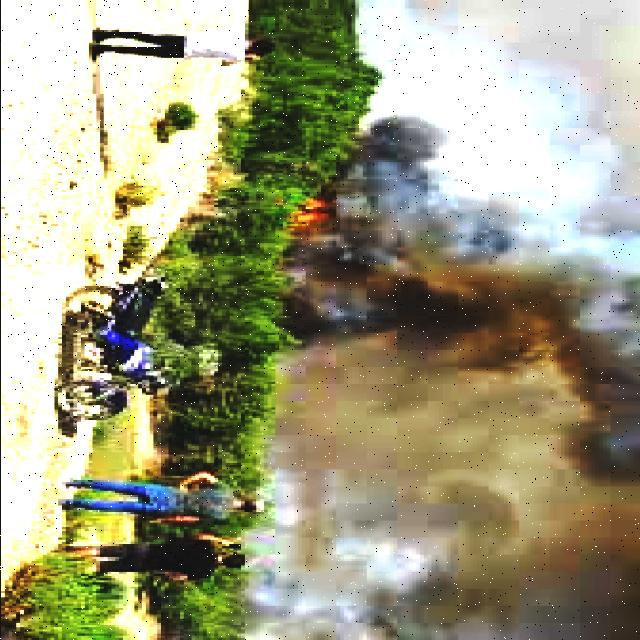asap: (313, 114, 640, 640), (363, 2, 640, 106)
